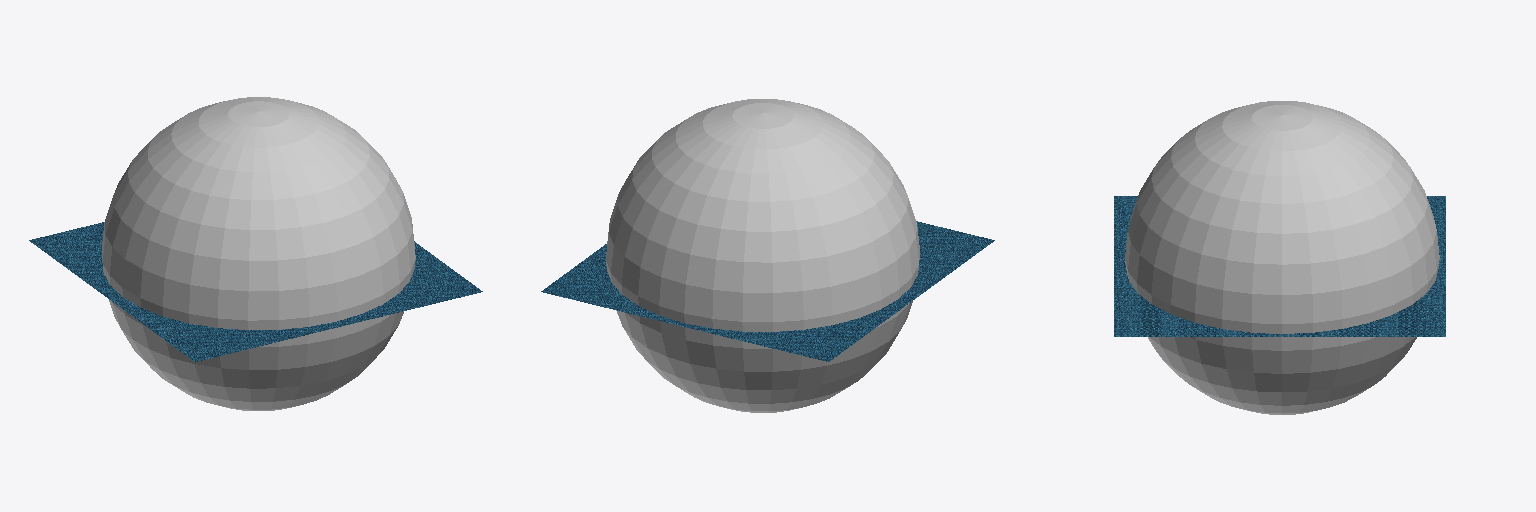
The picture shows the model from 3 angles: view 1: azimuth 30°, elevation 25°; view 2: azimuth 150°, elevation 25°; view 3: azimuth 270°, elevation 25°; orthographic projection.
Visible parts, largest first — view 1: sky_nocol_textured, water_nocol_textured; view 2: sky_nocol_textured, water_nocol_textured; view 3: sky_nocol_textured, water_nocol_textured.
Part boxes in pixels (x1,y1,x2,y2): sky_nocol_textured: (102, 97, 415, 410); water_nocol_textured: (29, 222, 482, 361); sky_nocol_textured: (606, 99, 919, 412); water_nocol_textured: (541, 221, 994, 361); sky_nocol_textured: (1125, 101, 1439, 414); water_nocol_textured: (1114, 196, 1445, 335).
Size of the model in its own units: 3240 by 3067 by 3240.
10 materials, 5 textured.